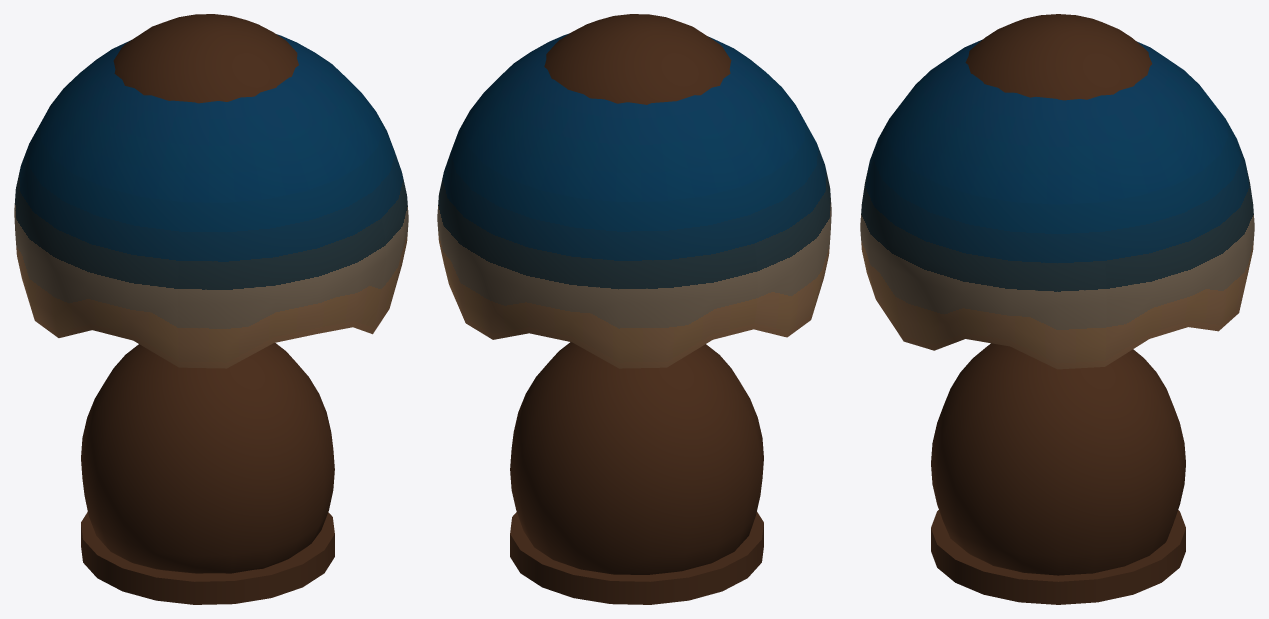
Rendered from Lampara.obj.
3 renders of one model, left to right at view 1: azimuth 30°, elevation 25°; view 2: azimuth 150°, elevation 25°; view 3: azimuth 270°, elevation 25°, orthographic.
Visible parts, largest first — view 1: pSphere5, pSphere1, pSphere2, pCylinder1; view 2: pSphere5, pSphere1, pSphere2, pCylinder1; view 3: pSphere5, pSphere1, pSphere2, pCylinder1.
Boxes of the visible parts, x1,y1,x2,y2 form: pSphere5: (14, 34, 408, 368); pSphere1: (81, 343, 334, 573); pSphere2: (113, 14, 298, 103); pCylinder1: (81, 512, 334, 604); pSphere5: (437, 33, 831, 368); pSphere1: (510, 342, 763, 574); pSphere2: (544, 14, 731, 104); pCylinder1: (510, 512, 763, 604); pSphere5: (860, 39, 1254, 369); pSphere1: (931, 343, 1185, 575); pSphere2: (965, 14, 1152, 100); pCylinder1: (931, 510, 1185, 604).
Size of the model in its own units: 3.09 by 4.54 by 3.09.
Materials: 3 (3 with a texture image).
